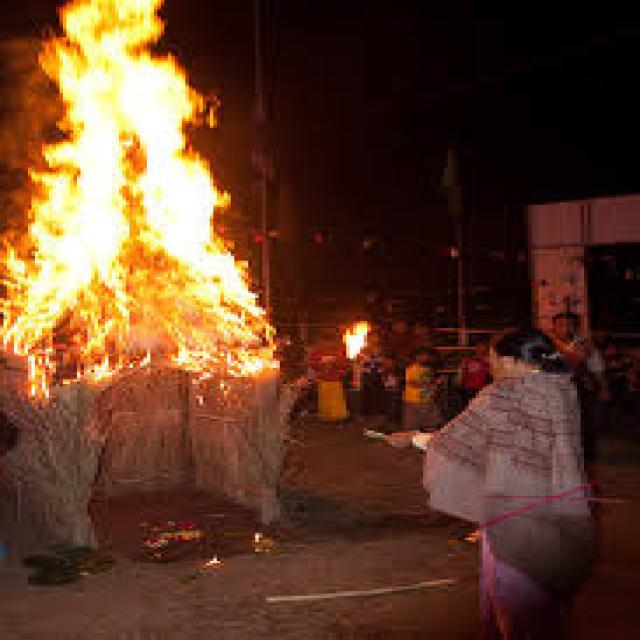fire: (0, 0, 280, 410)
